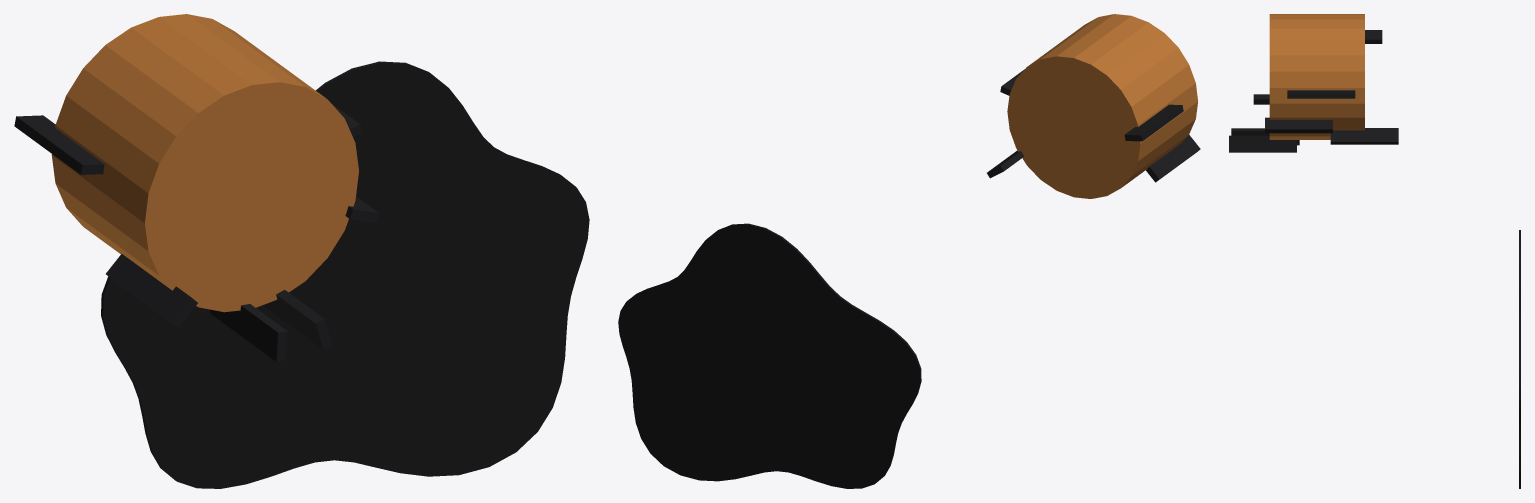
Rendered from fault_cable_chafe.glb.
3 views of the same model, side by side, from view 1: azimuth 30°, elevation 25°; view 2: azimuth 150°, elevation 25°; view 3: azimuth 270°, elevation 25° (orthographic). The views are drawn at different scales.
Visible parts, largest first — view 1: fault_cable_chafe; view 2: fault_cable_chafe; view 3: fault_cable_chafe.
Part boxes in pixels (x1,y1,x2,y2): fault_cable_chafe: (14, 14, 589, 488); fault_cable_chafe: (618, 14, 1200, 488); fault_cable_chafe: (1229, 14, 1520, 488).
Size of the model in its own units: 0.6154 by 0.5629 by 0.4291.
